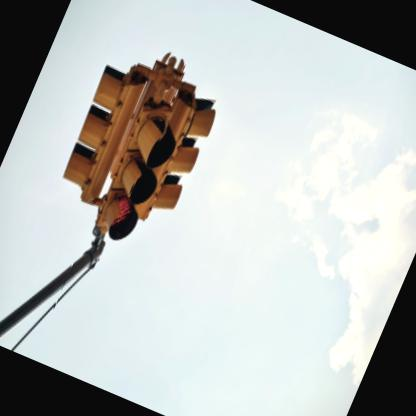trafficlight: (90, 68, 197, 244), (48, 46, 152, 204), (138, 90, 223, 240)
